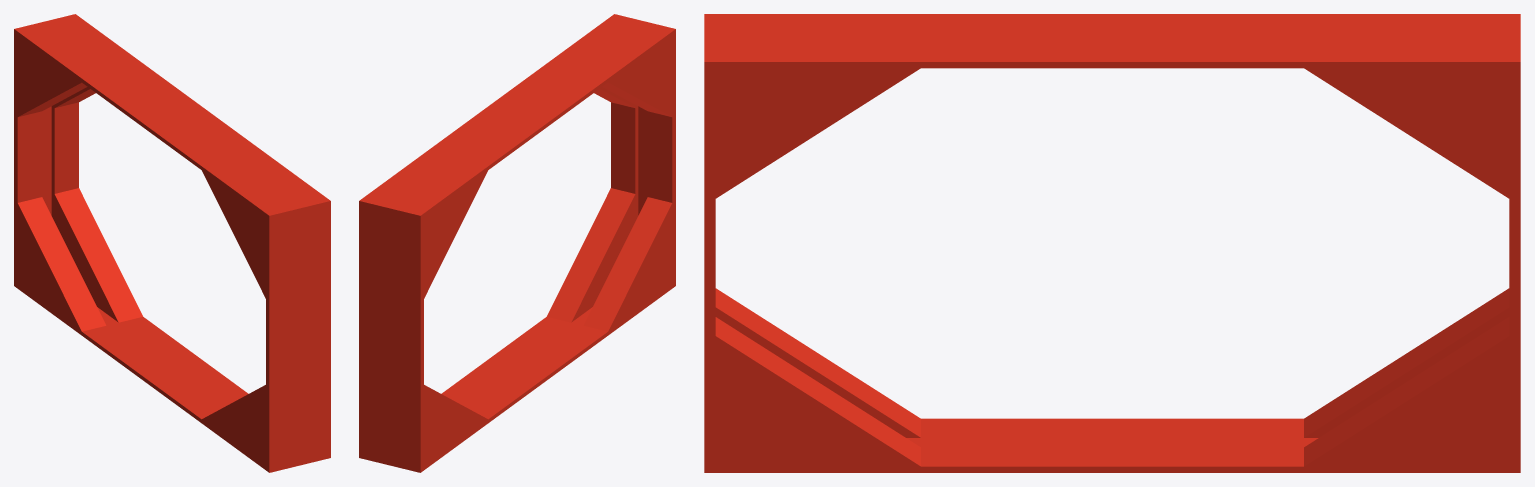
Rendered from door_A[FRAME][short][EX].fbx.
3 views of the same model, side by side, from view 1: azimuth 30°, elevation 25°; view 2: azimuth 150°, elevation 25°; view 3: azimuth 270°, elevation 25° (orthographic). The views are drawn at different scales.
Parts seen in each view (by area): view 1: door_A[FRAME][short][EX]; view 2: door_A[FRAME][short][EX]; view 3: door_A[FRAME][short][EX].
Boxes of the visible parts, x1,y1,x2,y2 form: door_A[FRAME][short][EX]: (14,14,330,472); door_A[FRAME][short][EX]: (359,14,675,472); door_A[FRAME][short][EX]: (704,14,1520,472).
Bounding box in the file's own units: 1 × 4 × 7.2.
